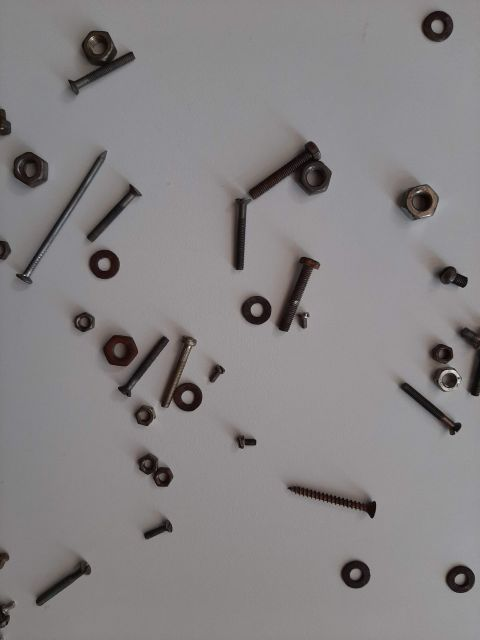gwozdz: (5, 135, 105, 295)
nakretka: (275, 135, 355, 205), (385, 155, 445, 235), (65, 5, 125, 65), (415, 355, 475, 395), (135, 445, 175, 495), (5, 125, 35, 185), (95, 385, 155, 415), (65, 305, 95, 355), (125, 425, 155, 475)
podkladka: (215, 275, 275, 325), (155, 365, 215, 415), (415, 5, 475, 45), (75, 325, 135, 365), (325, 535, 365, 595), (415, 555, 475, 595), (65, 245, 125, 275)
sruba: (385, 365, 475, 455), (45, 35, 155, 95), (15, 535, 95, 615), (245, 125, 325, 205), (95, 325, 185, 395), (135, 325, 205, 415), (65, 175, 155, 245), (265, 245, 325, 325), (215, 185, 265, 275), (415, 245, 475, 295), (125, 505, 205, 535), (215, 415, 265, 455)
